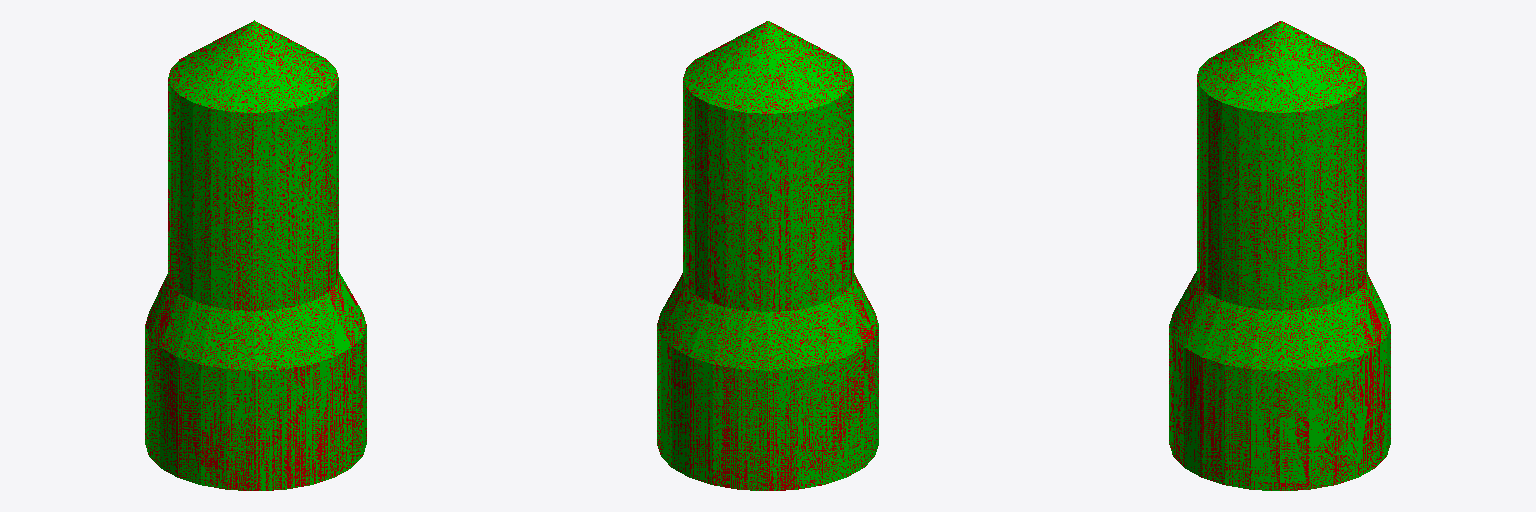
robot.urdf — yellow_buoy:
<robot name="yellow_buoy">
  <link name="yellow_buoy">
    <inertial>
      <origin xyz="0 0 0" />
      <mass value="10.0" />
      <inertia  ixx="1.0" ixy="0.0"  ixz="0.0"  iyy="100.0"  iyz="0.0"  izz="1.0" />
    </inertial>
    <visual>
      <origin xyz="0 0 -1"/>
      <geometry>
            <mesh filename="package://robotx_description/meshes/green_buoy_marker.dae" scale="1 1 1" />
      </geometry>
    </visual>
    <collision>
      <origin xyz="0 0 0"/>
      <geometry>
        <cylinder length="0.99" radius="0.127" />
      </geometry>
    </collision>
  </link>
  <gazebo reference="yellow_buoy">
    <material>Gazebo/Yellow</material>
  </gazebo>
</robot>

--- Facts derived from the render (not from the file) ---
3 views of the same robot in one strip: view 1: azimuth 30°, elevation 25°; view 2: azimuth 150°, elevation 25°; view 3: azimuth 270°, elevation 25° (orthographic).
Robot: yellow_buoy — 1 links, 0 joints (none); root link yellow_buoy; default pose: every joint at zero.
Visible links, largest first — view 1: yellow_buoy; view 2: yellow_buoy; view 3: yellow_buoy.
Link boxes in pixels (<box>): yellow_buoy: <box>145,20,366,490</box>; yellow_buoy: <box>657,21,878,490</box>; yellow_buoy: <box>1169,21,1390,490</box>.
Size in the robot's own frame: 0.9398 by 0.9398 by 1.99 metres.
Meshes: 1 distinct files referenced, 1 mesh visuals loaded (1 Collada DAE).